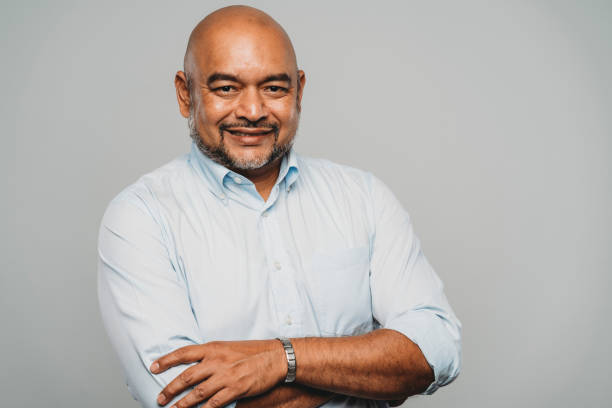person: (173, 4, 306, 173)
